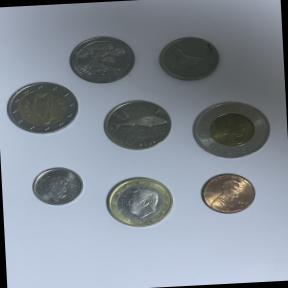1 Euro-B: (99, 170, 183, 234)
2 Euro-B: (4, 78, 82, 138)
Canada-10cent-B: (28, 162, 88, 212)
Canada-2Dollar-B: (184, 92, 279, 168)
Croatia-2Kune-B: (98, 94, 178, 158)
US-1cent-B: (194, 168, 263, 222)
US-25cent-B: (64, 32, 140, 88)
